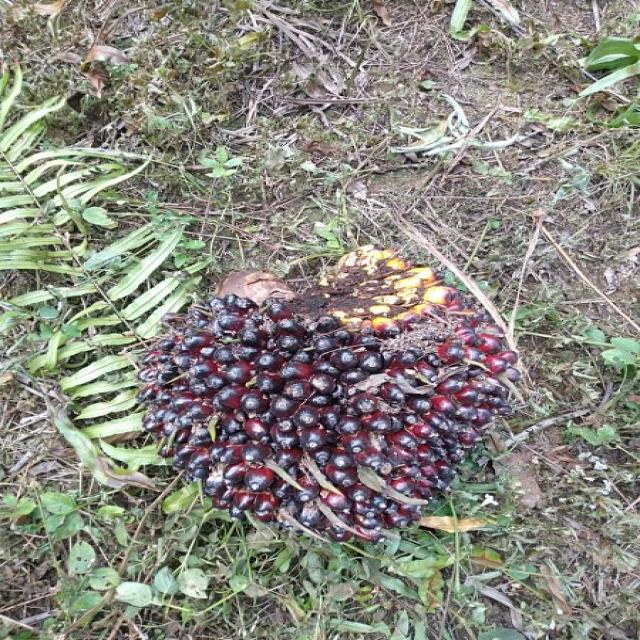fraksi 00: (84, 204, 561, 581)
